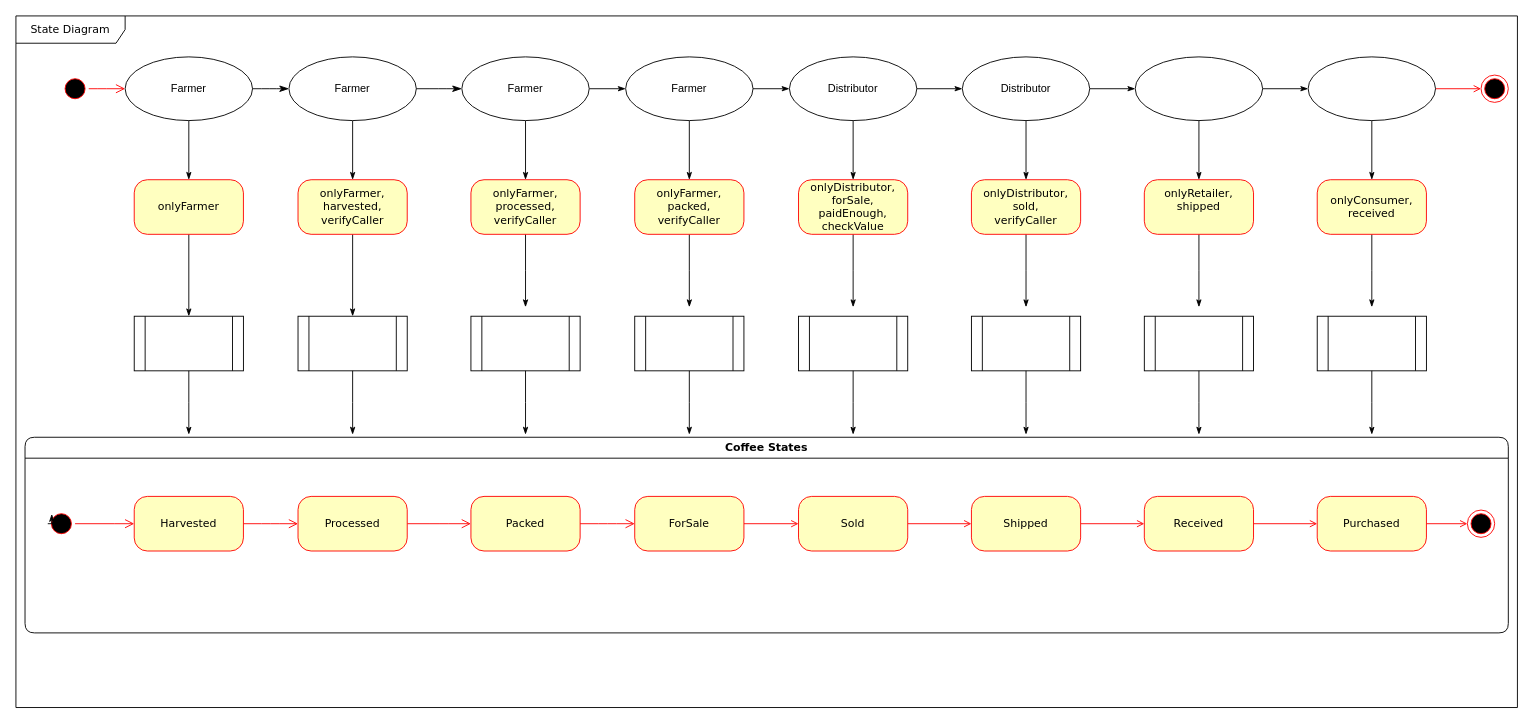
Some shapes in this 1533 by 723 pixel diagram are drawn without their labels. The box of each missing label's shape, as (x1, y1, x2, y2) in pixels:
buyItem: (798, 315, 908, 371)
Consumer: (1307, 56, 1436, 121)
harvestItem: (133, 315, 243, 371)
packItem: (470, 315, 580, 371)
processItem: (297, 315, 407, 371)
purchaseItem: (1316, 315, 1426, 371)
receiveItem: (1143, 315, 1254, 371)
Retailer: (1134, 56, 1263, 121)
sellItem: (634, 315, 744, 371)
shipIem: (971, 315, 1081, 371)
